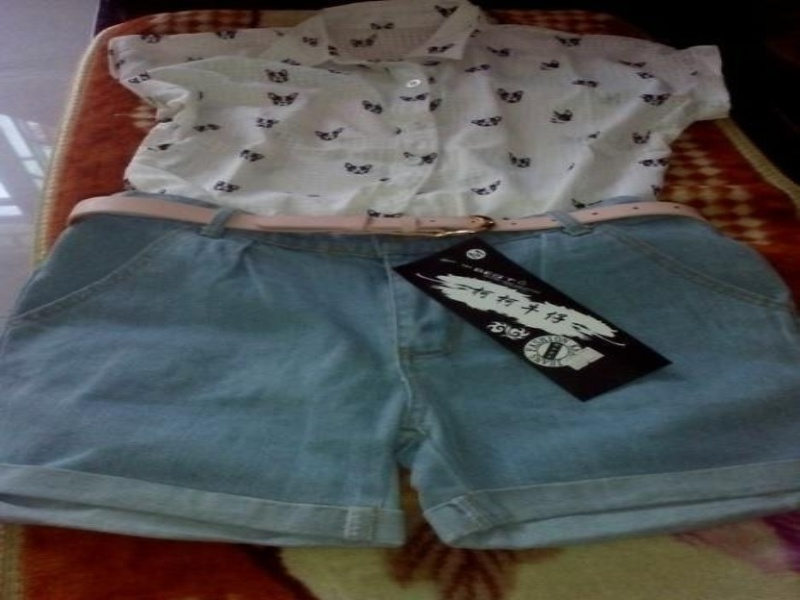short_sleeved_shirt: (91, 0, 747, 313)
shorts: (0, 184, 798, 562)
